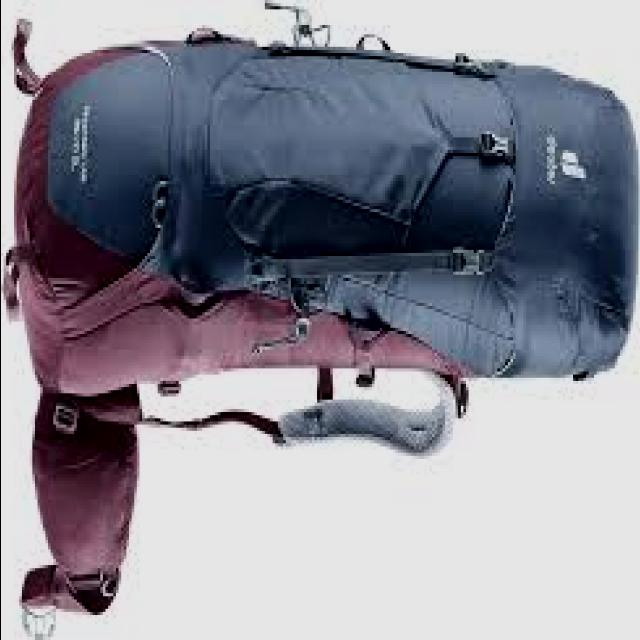backpack: (6, 1, 640, 622)
